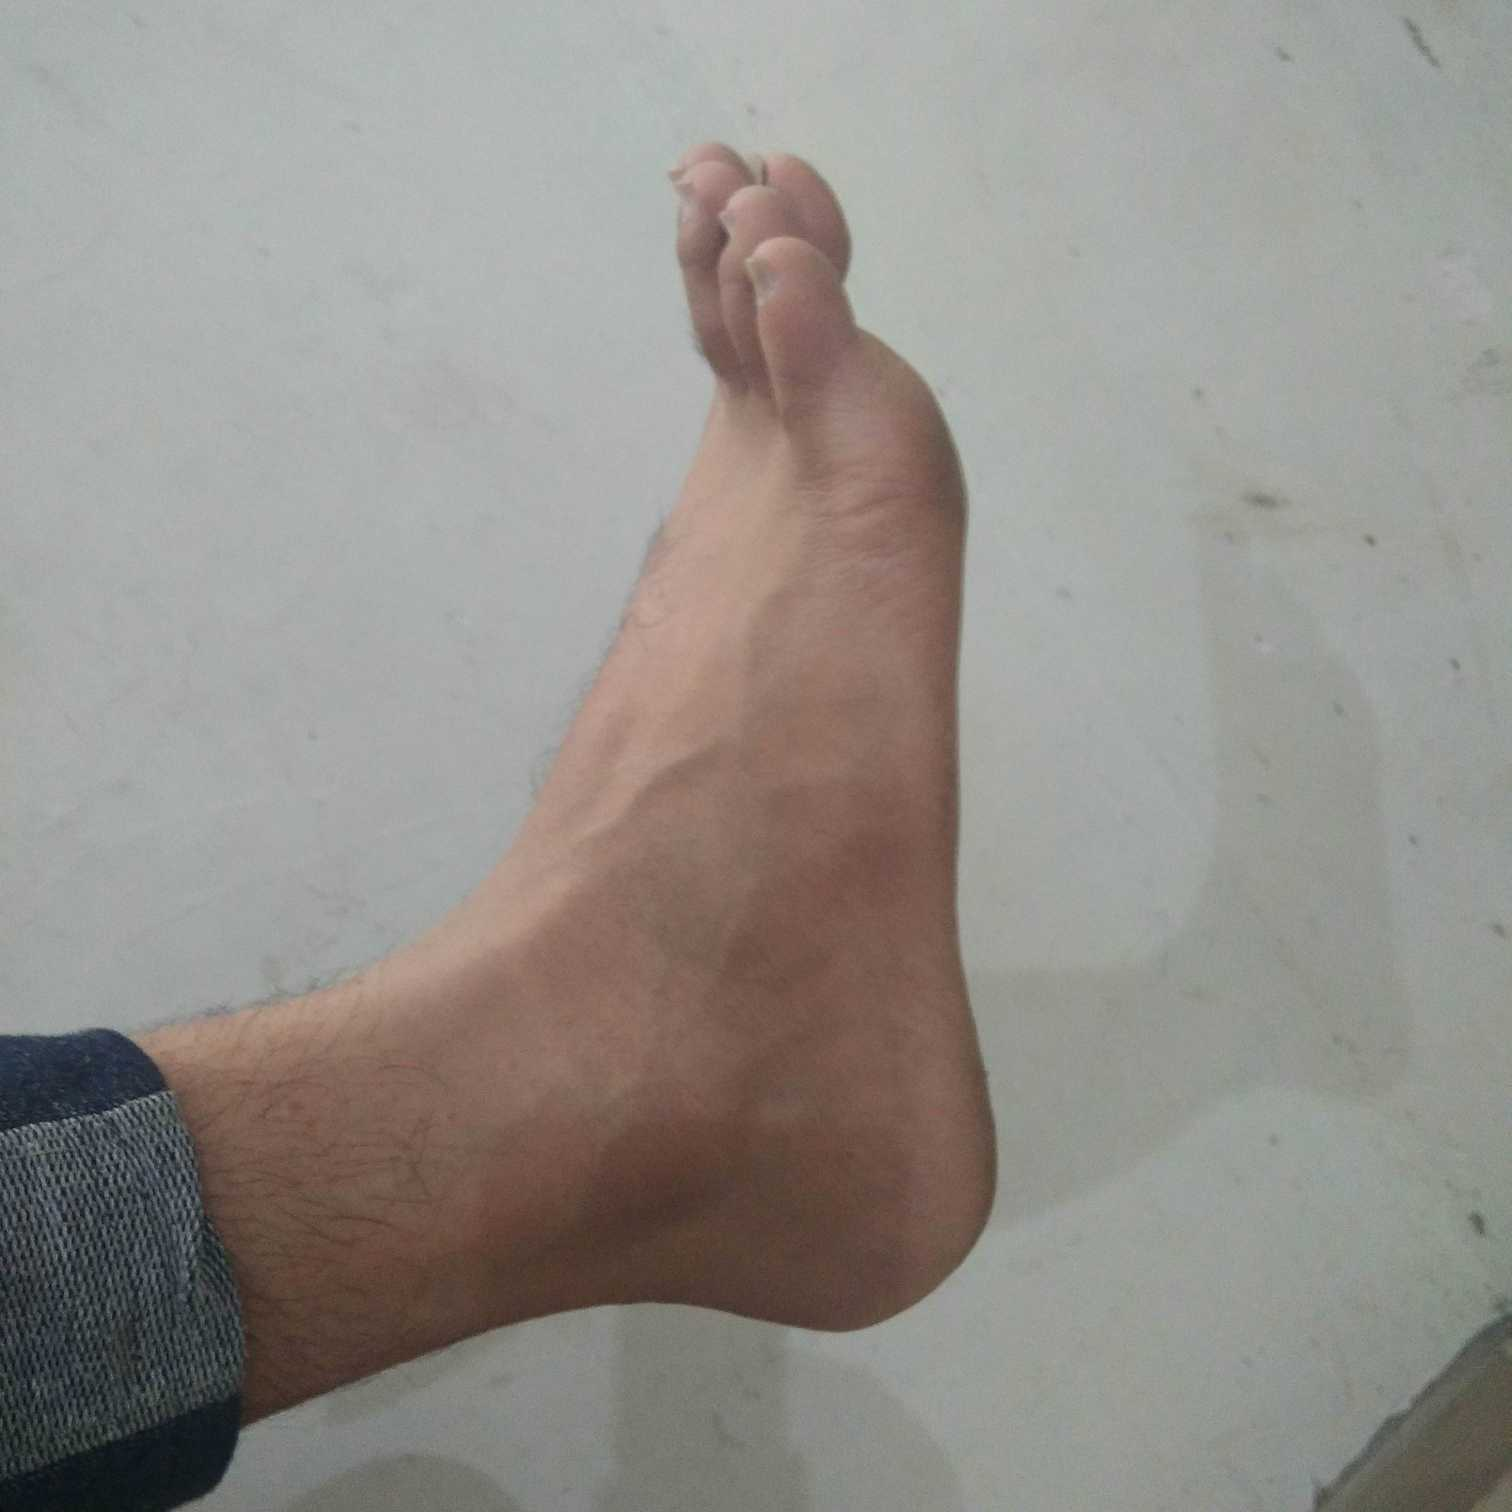foot: (521, 133, 1005, 1333)
